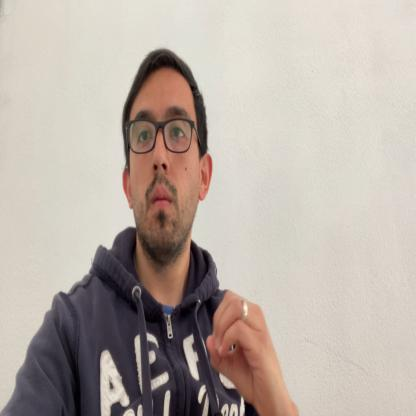O: (207, 288, 278, 410)
